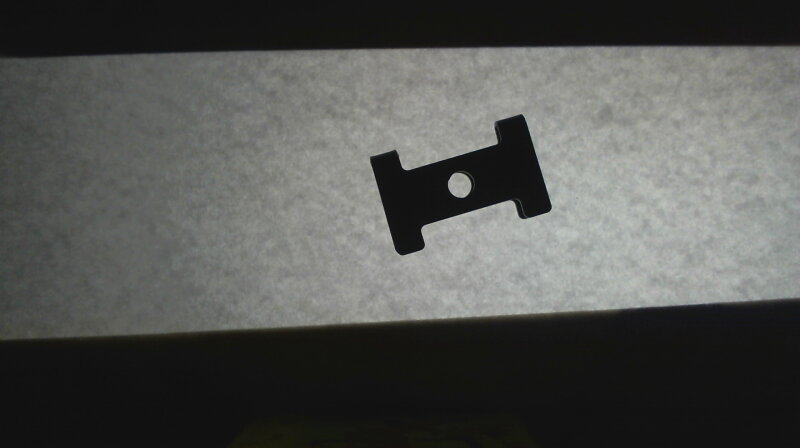O002: (365, 112, 556, 257)
